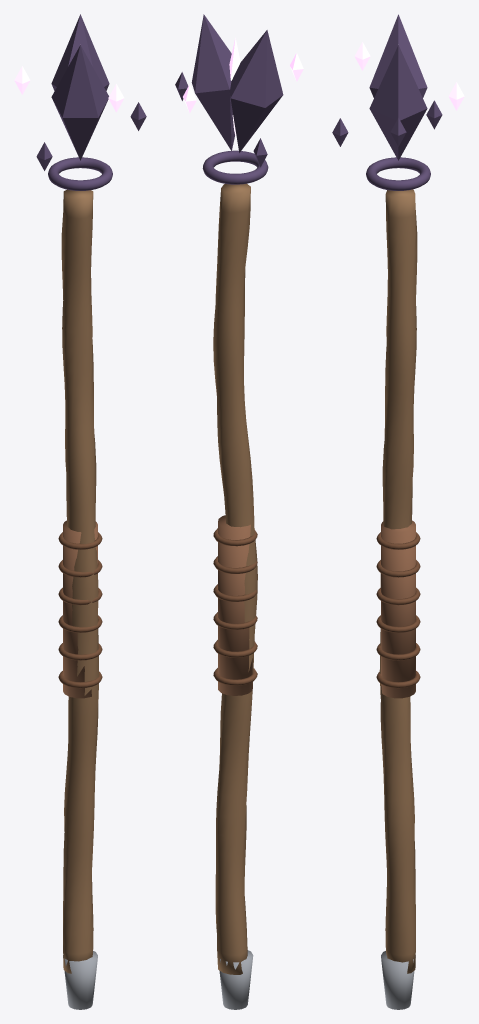
Rendered from cajado-fendas-490.glb.
The picture shows the model from 3 angles, left to right: view 1: azimuth 90°, elevation 25°; view 2: azimuth 150°, elevation 25°; view 3: azimuth 270°, elevation 25°; orthographic projection.
Parts seen in each view (by area): view 1: cajado-fendas; view 2: cajado-fendas; view 3: cajado-fendas.
Boxes of the visible parts, x1,y1,x2,y2 form: cajado-fendas: (14,14,146,1009); cajado-fendas: (175,14,303,1009); cajado-fendas: (332,14,464,1009).
Bounding box in the file's own units: 0.1868 × 1.59 × 0.1952.
